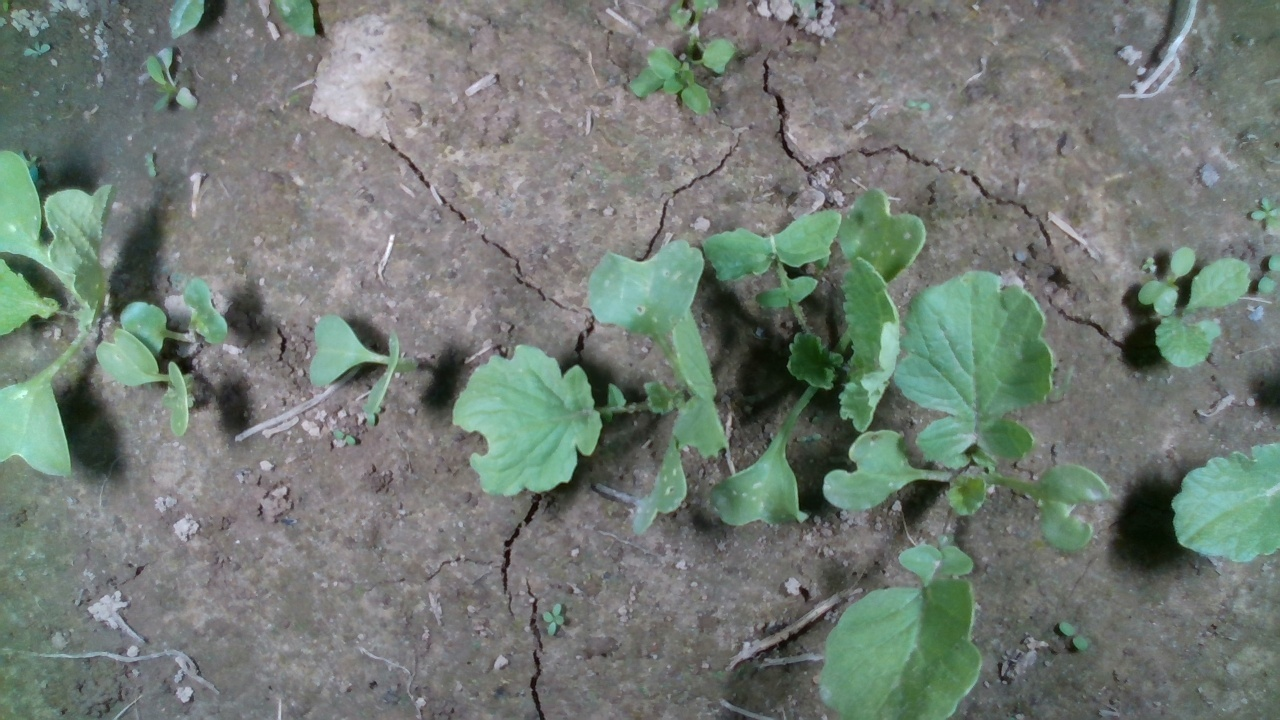weed: (538, 600, 566, 638), (1057, 619, 1089, 651), (22, 37, 52, 59), (332, 427, 357, 447), (143, 149, 158, 180)
